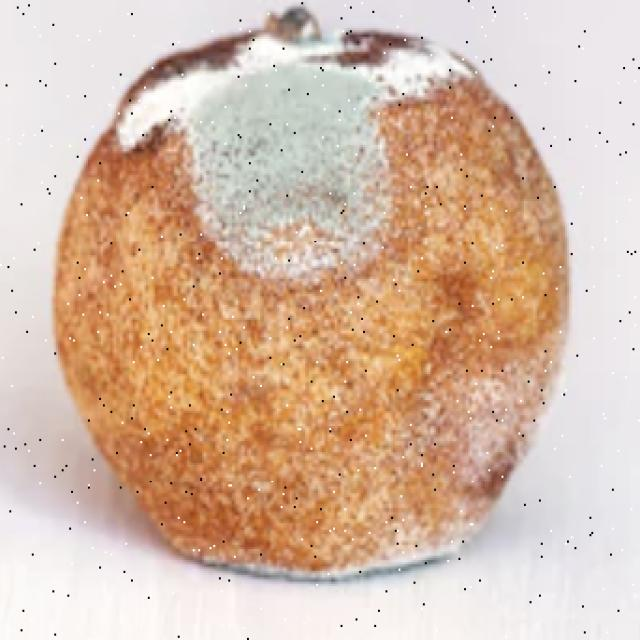sangat_busuk: (49, 21, 565, 582)
